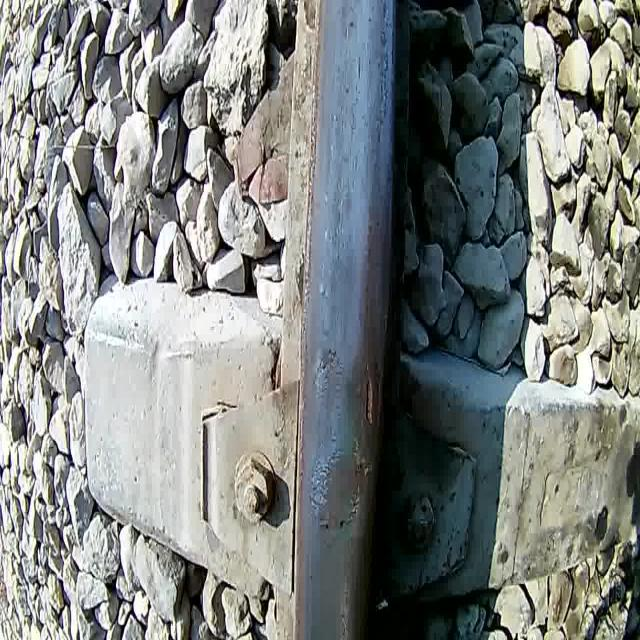Spallings: (336, 476, 363, 531), (363, 358, 375, 436)
Squats: (308, 443, 369, 538)
